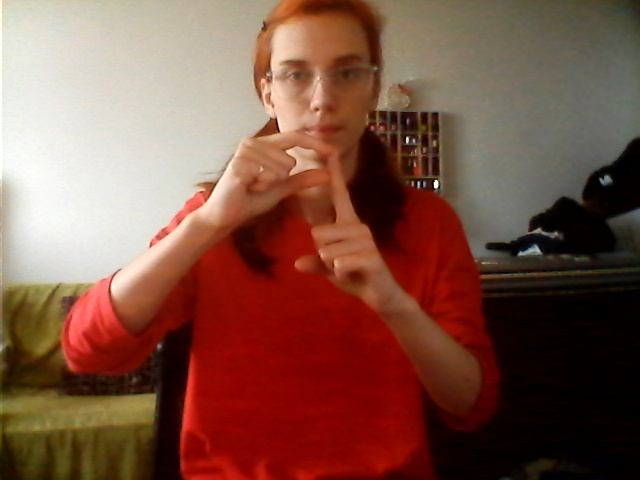p: (220, 127, 385, 311)
